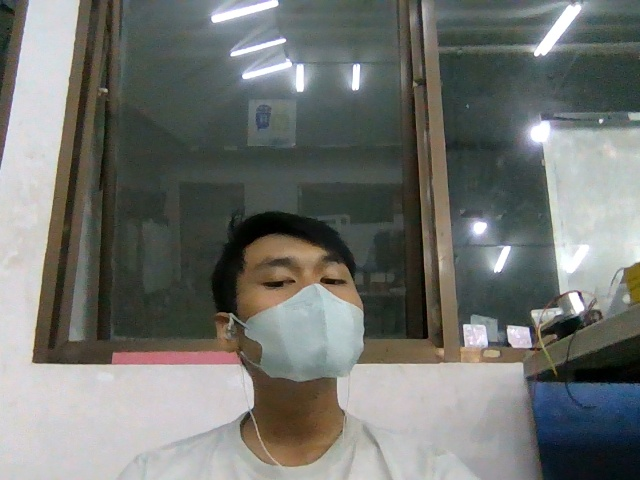mask_on: (245, 284, 364, 381)
